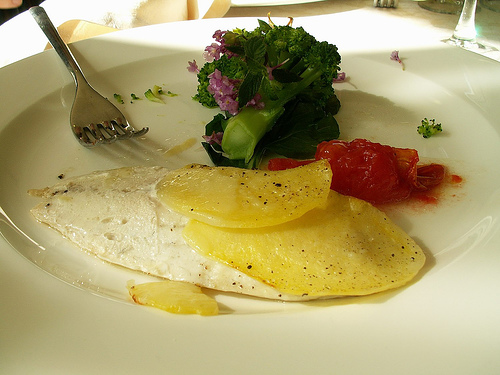broccoli: (182, 10, 339, 168)
